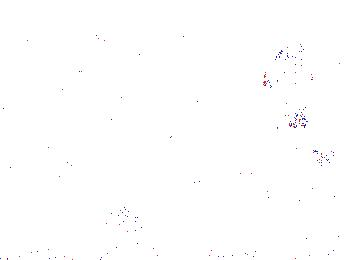flame jellyfish: (65, 173, 151, 228), (261, 51, 317, 130), (281, 147, 336, 217)
